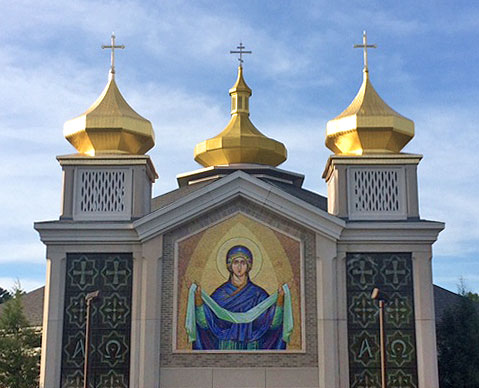Church: (54, 14, 440, 378)
